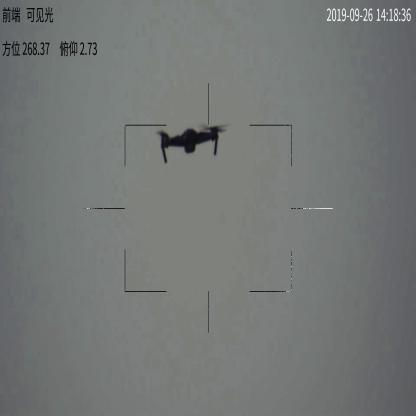uav: (146, 120, 232, 163)
